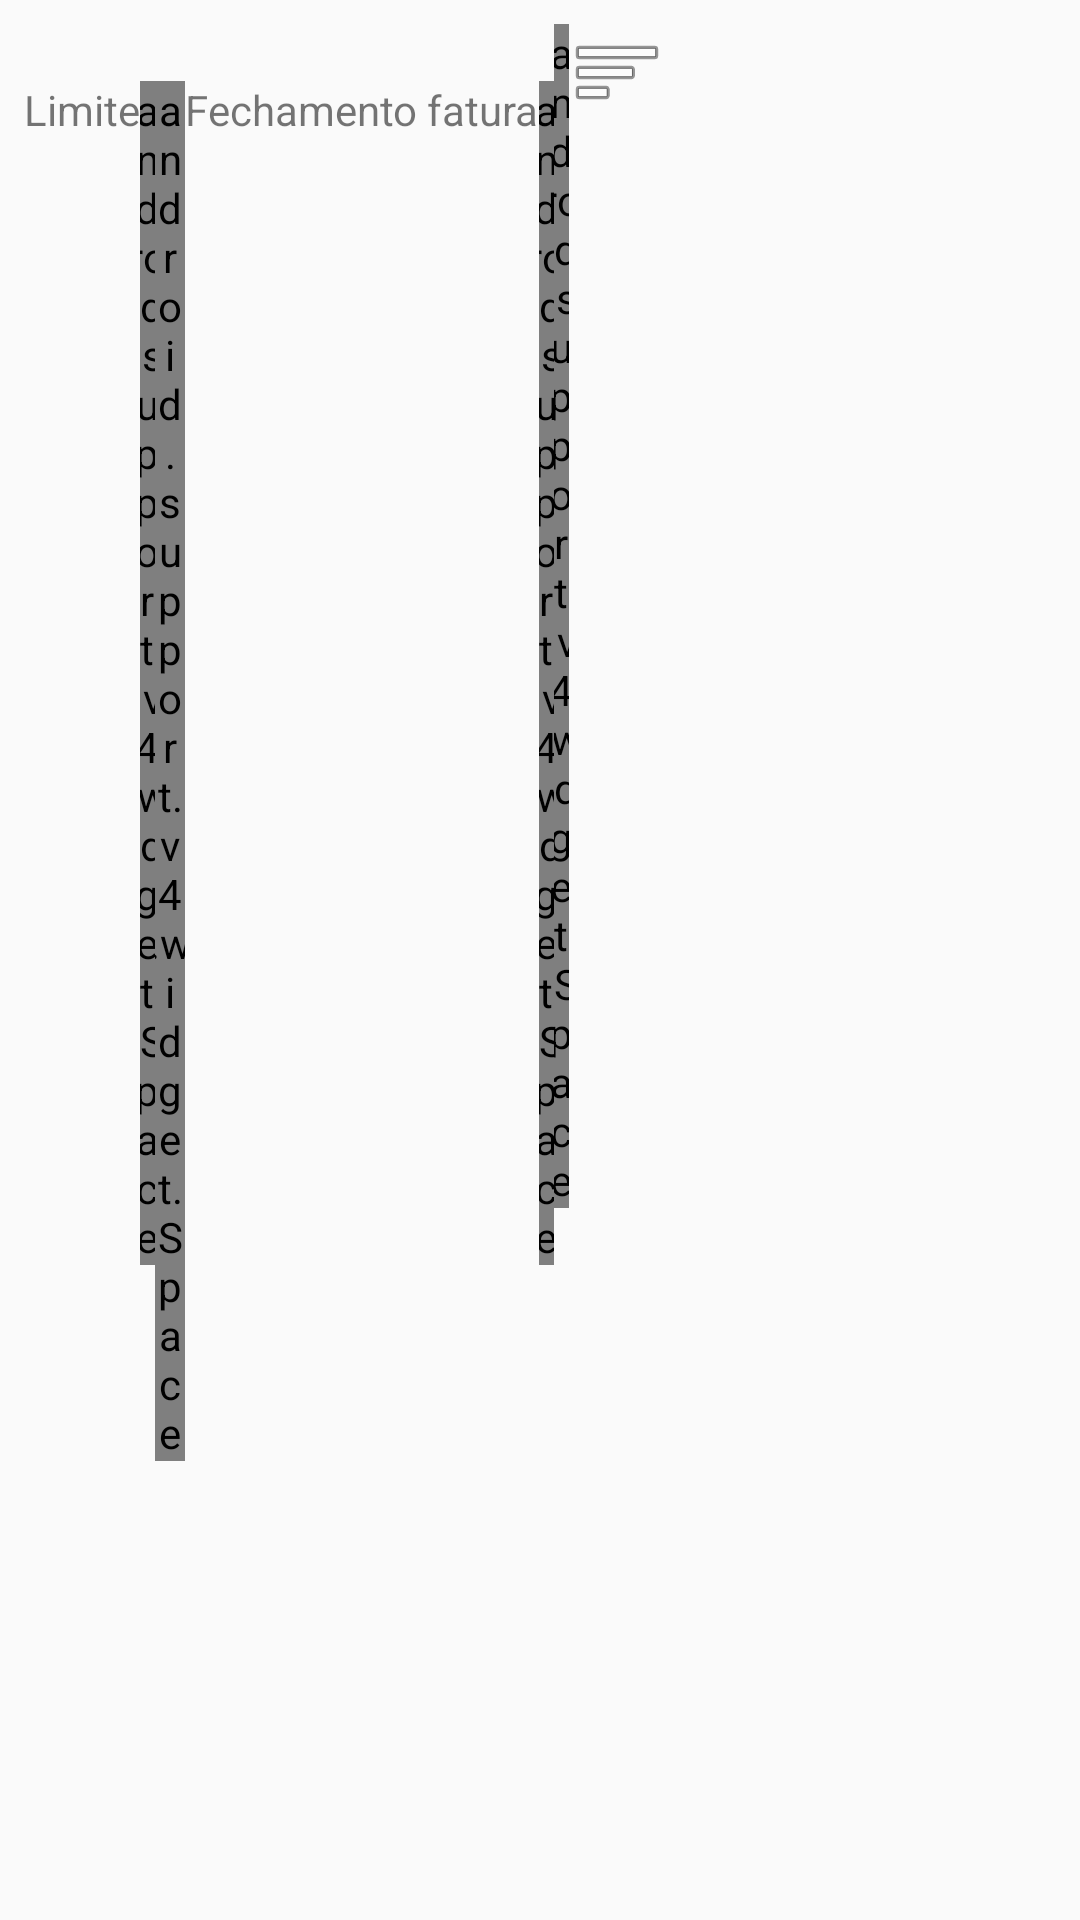

Icons on this 1080w x 1920h Android screen, each with the point to tap as [x,y]:
sort by size: [617,72]
